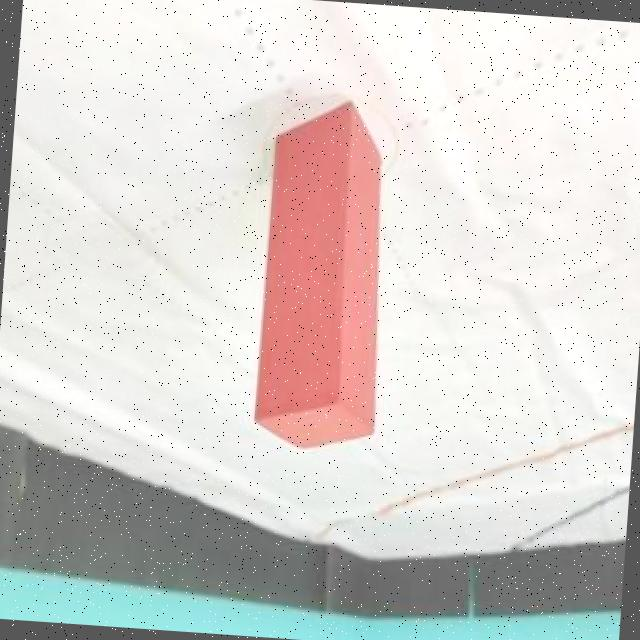redbox: (246, 94, 396, 455)
